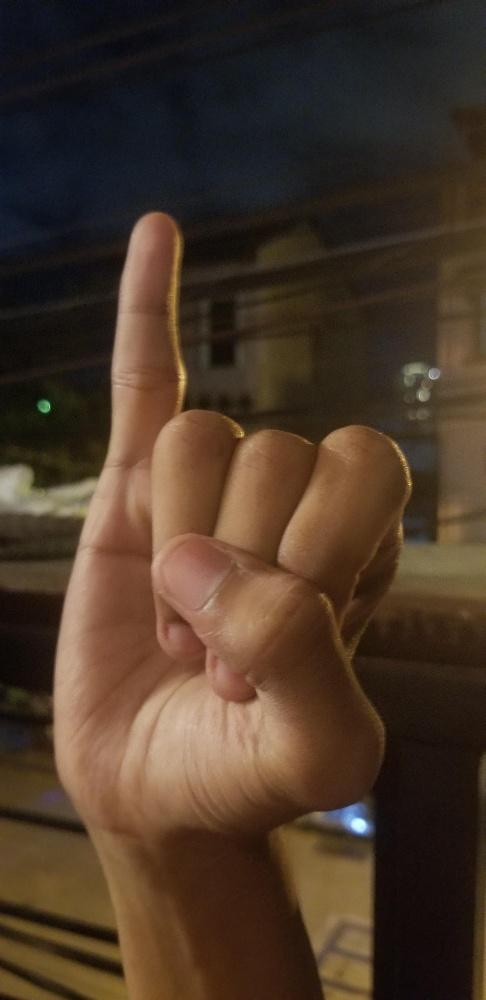i: (52, 207, 412, 820)
